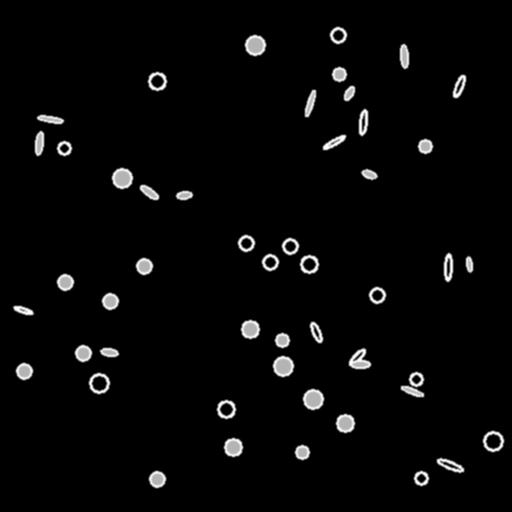pseudomonas: (436, 457, 464, 473), (347, 347, 367, 367), (303, 89, 317, 117), (322, 134, 346, 150), (451, 74, 467, 98), (139, 183, 159, 201), (400, 385, 424, 397), (309, 322, 323, 342), (358, 110, 368, 134), (342, 85, 356, 101), (34, 132, 44, 154), (37, 115, 63, 123), (361, 168, 377, 180), (14, 305, 32, 315), (400, 45, 408, 67), (445, 253, 451, 281), (465, 256, 473, 272), (101, 348, 117, 356), (176, 191, 192, 199), (351, 361, 369, 368)
synechocystis: (90, 374, 108, 392), (484, 432, 502, 450), (304, 390, 322, 408), (274, 357, 292, 375), (113, 169, 131, 187), (246, 36, 264, 54), (242, 321, 258, 337), (337, 415, 353, 431), (149, 73, 165, 89), (225, 439, 241, 455), (218, 401, 234, 417), (301, 256, 317, 272), (370, 288, 384, 302), (331, 28, 345, 42), (137, 259, 151, 273), (58, 275, 72, 289), (76, 346, 90, 360), (17, 364, 31, 378), (283, 239, 297, 253), (103, 294, 117, 308), (263, 255, 277, 269), (150, 472, 164, 486), (239, 236, 253, 250), (333, 68, 345, 80), (415, 472, 427, 484), (276, 334, 288, 346), (296, 446, 308, 458), (58, 142, 70, 154), (410, 373, 422, 385), (419, 140, 431, 152)
